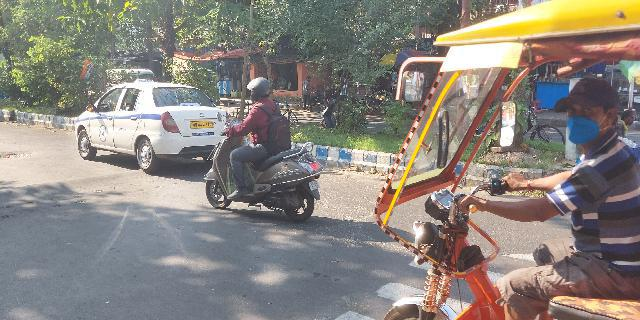Car: (72, 80, 228, 171)
Motorbike: (200, 78, 324, 224)
Rickshaw: (365, 11, 638, 320)
